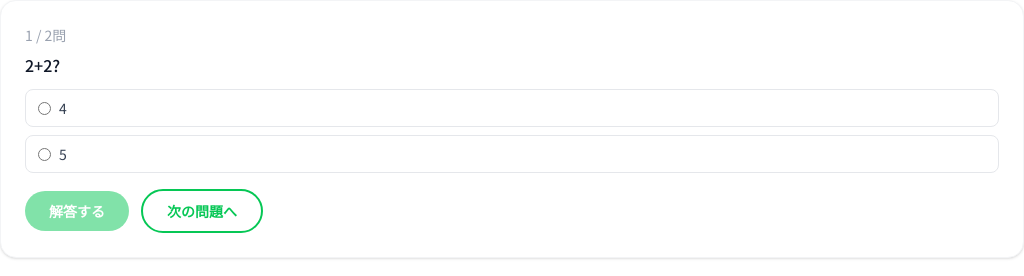
Test: QuizQuestionCard › can move to the next question without answering and return without submitting
Click the button "次の問題へ" at (202, 211), box [141,189,263,233]
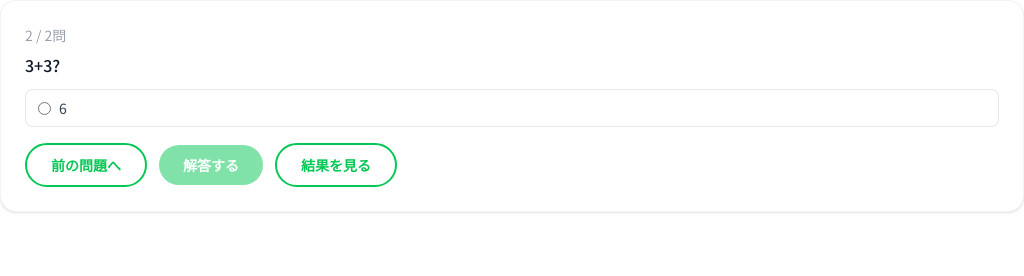
Expected: the text "3+3?" is shown, [25,53,60,77]
Click the button "前の問題へ" at (86, 165), box [25,143,147,187]
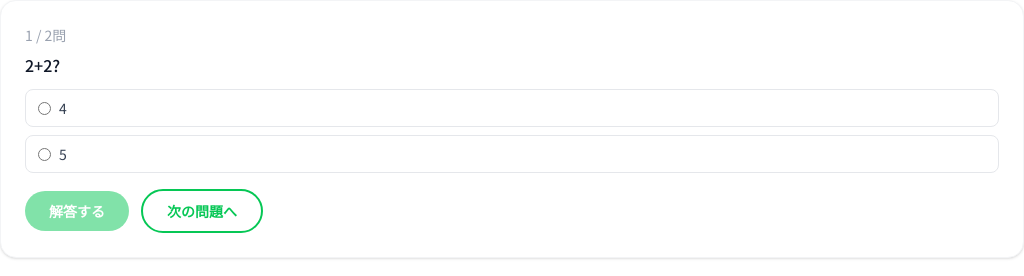
Expected: the text "2+2?" is shown, [25,53,60,77]
